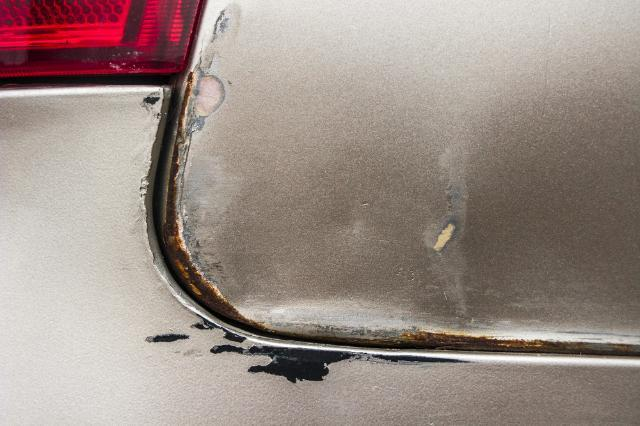dent: (205, 173, 469, 333)
scratch: (136, 318, 477, 388), (177, 0, 246, 146)
